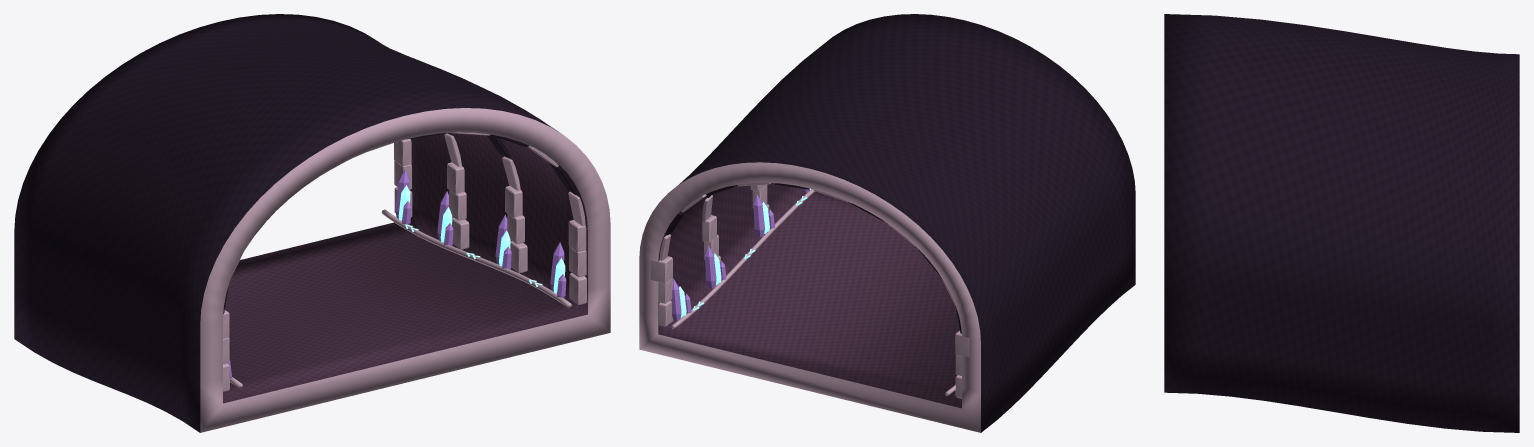
Rendered from grade_down_lod1.glb.
The picture shows the model from 3 angles, left to right: view 1: azimuth 30°, elevation 25°; view 2: azimuth 150°, elevation 25°; view 3: azimuth 270°, elevation 25°; orthographic projection. The views are drawn at different scales.
Visible parts, largest first — view 1: TunnelGeometry.001; view 2: TunnelGeometry.001; view 3: TunnelGeometry.001.
Boxes of the visible parts, box(x1,y1,x2,y2) form: TunnelGeometry.001: box(14, 14, 610, 432); TunnelGeometry.001: box(639, 14, 1135, 432); TunnelGeometry.001: box(1164, 14, 1519, 432).
Size of the model in its own units: 15.3 by 11.02 by 12.
5 materials, 2 textured.
